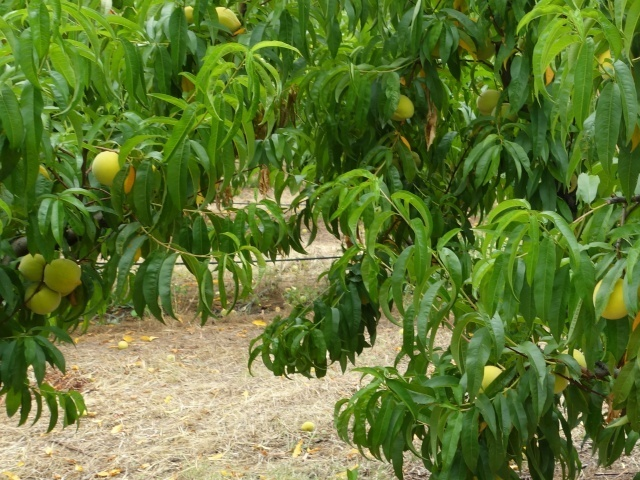peach: (591, 273, 632, 322), (40, 256, 85, 295), (22, 278, 64, 318), (86, 149, 128, 187), (13, 251, 51, 284), (209, 3, 243, 37), (385, 92, 418, 125), (470, 87, 505, 114), (485, 98, 510, 125)
